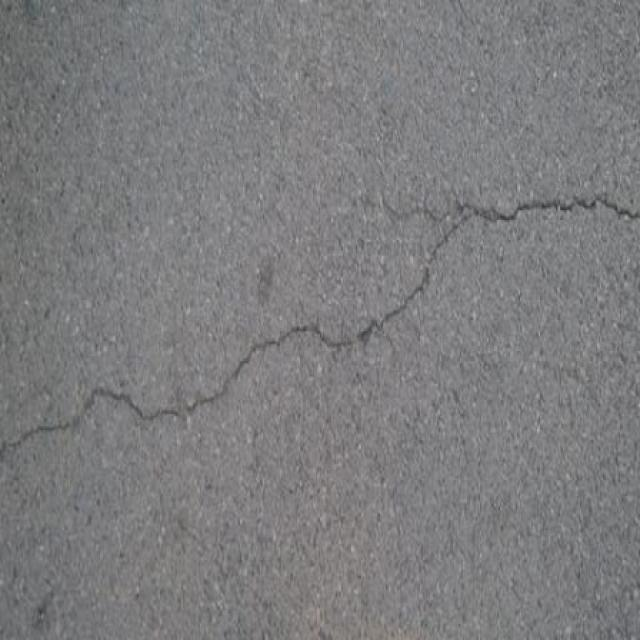Diagonal Crack: (0, 183, 640, 468)
